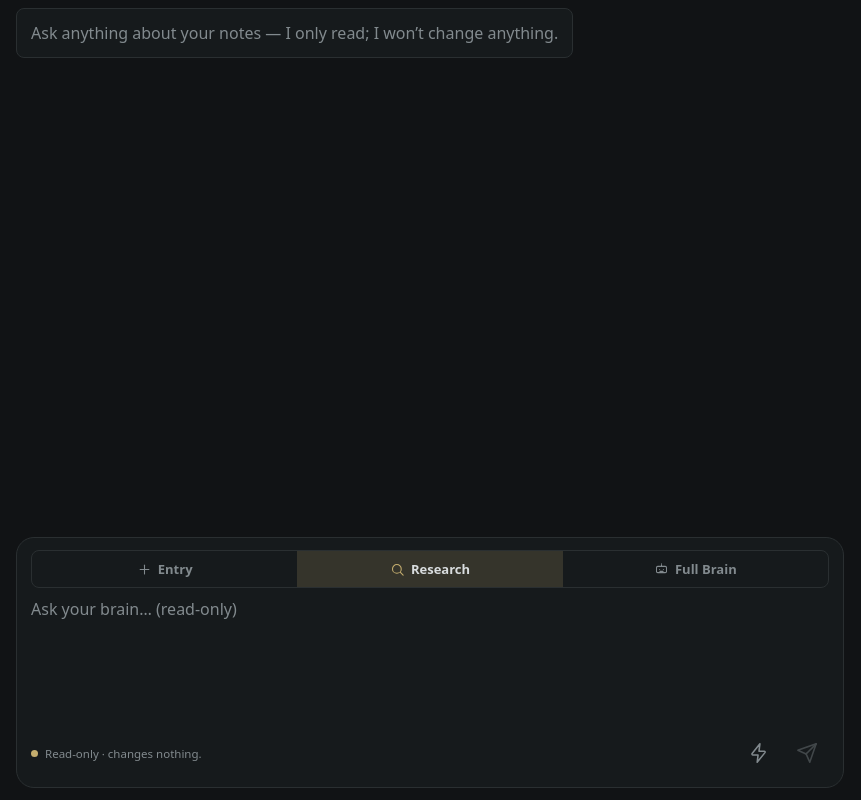
Test: Chat — Full Brain mode › renders an in-stream error event on the assistant bubble
Click the button "Full Brain".
click(695, 569)  # box 563,551 -> 828,587
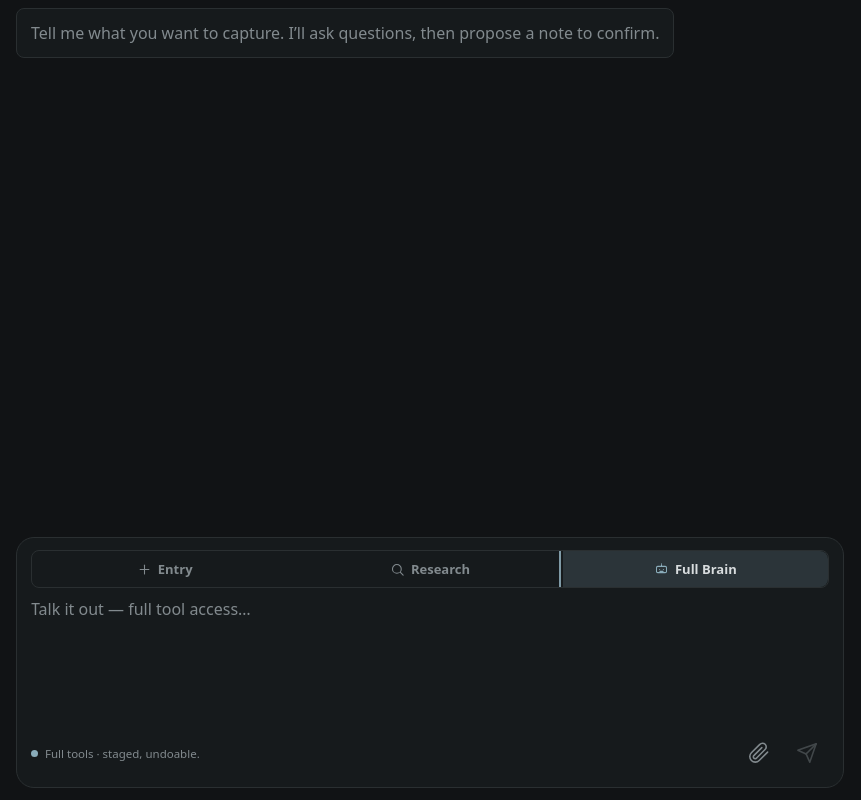
Type "hi" into the text box with placeholder "Talk it out — full tool access…".
click(430, 658); type("hi")  # box 31,598 -> 829,718
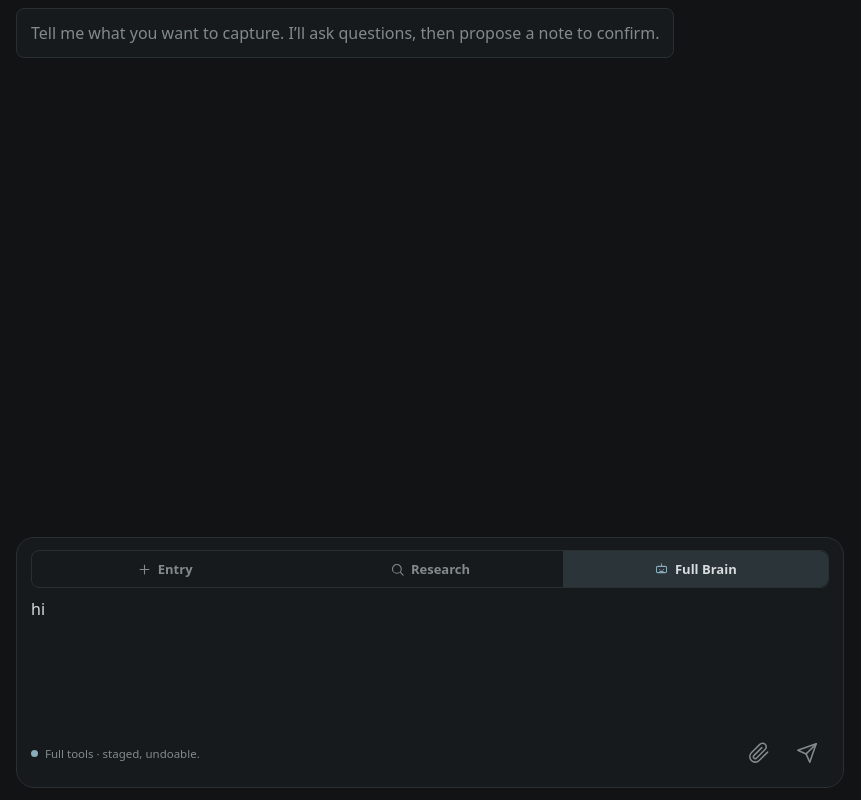
Click the button named "Send".
click(807, 753)  # box 785,731 -> 829,775
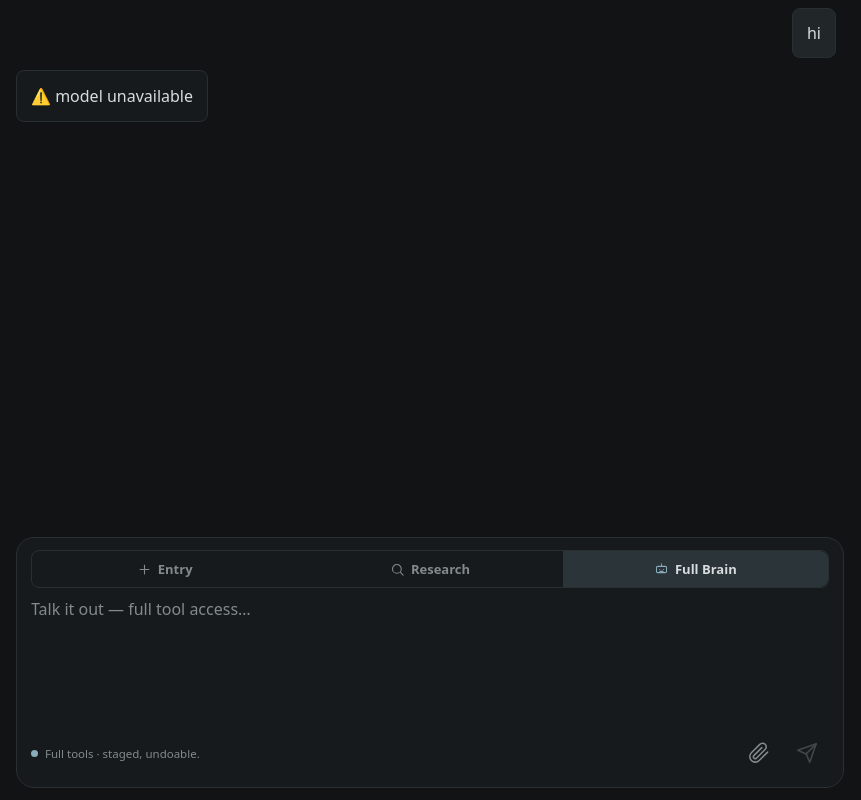
expect the text "⚠️ model unavailable" is shown: met, box 31,83 -> 193,109
